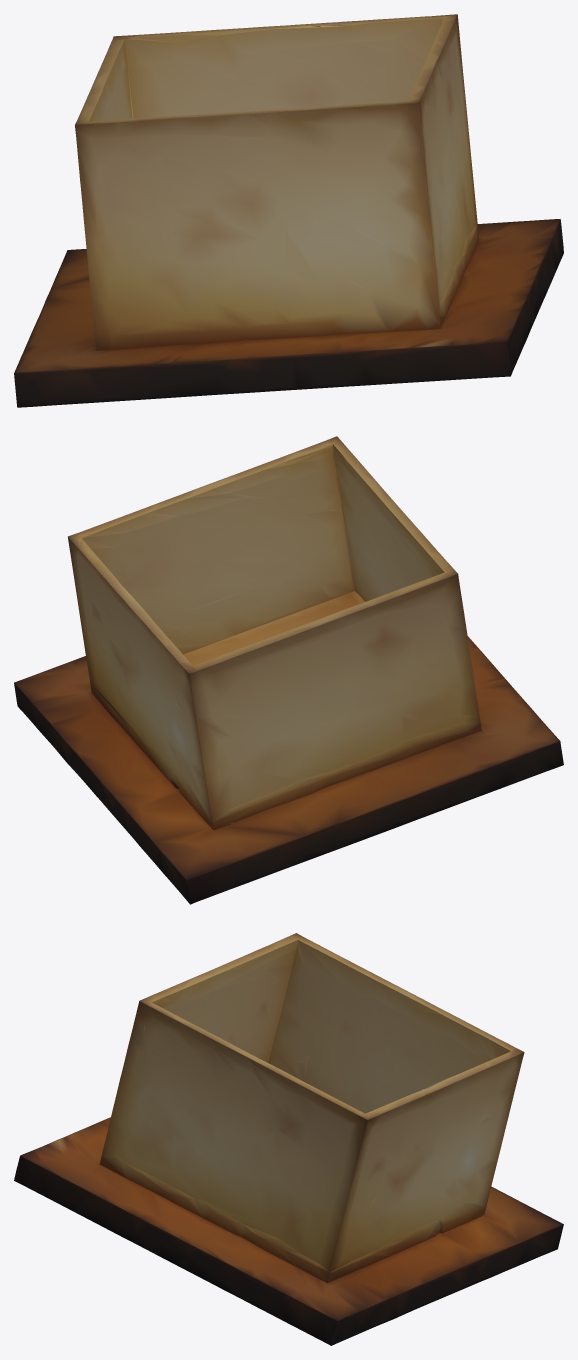
Rendered from sam3d_mesh_00.obj.
The picture shows the model from 3 angles, top to bottom: view 1: azimuth 30°, elevation 25°; view 2: azimuth 150°, elevation 25°; view 3: azimuth 270°, elevation 25°; orthographic projection. The views are drawn at different scales.
Bounding box in the file's own units: 0.523 × 0.2922 × 0.5176.
